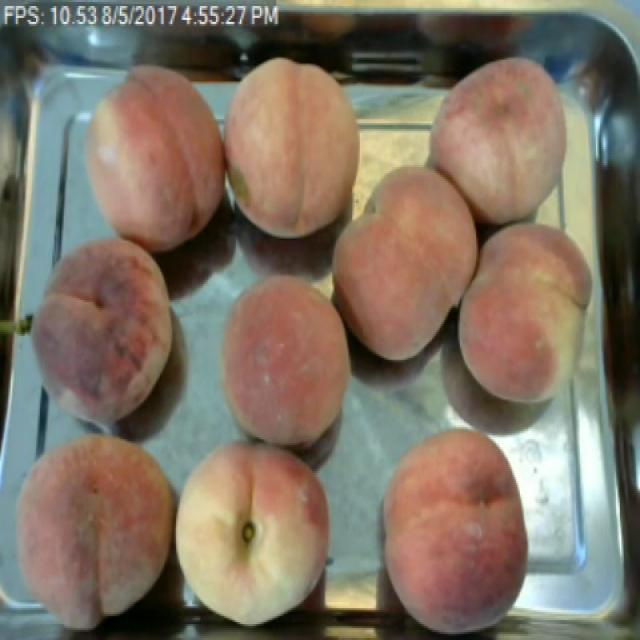Fruit: (0, 409, 180, 640), (11, 221, 194, 447), (173, 421, 347, 640), (320, 153, 493, 372), (371, 419, 540, 640), (440, 209, 617, 417), (198, 264, 366, 465), (70, 52, 226, 268), (422, 44, 586, 235), (222, 48, 374, 250)
